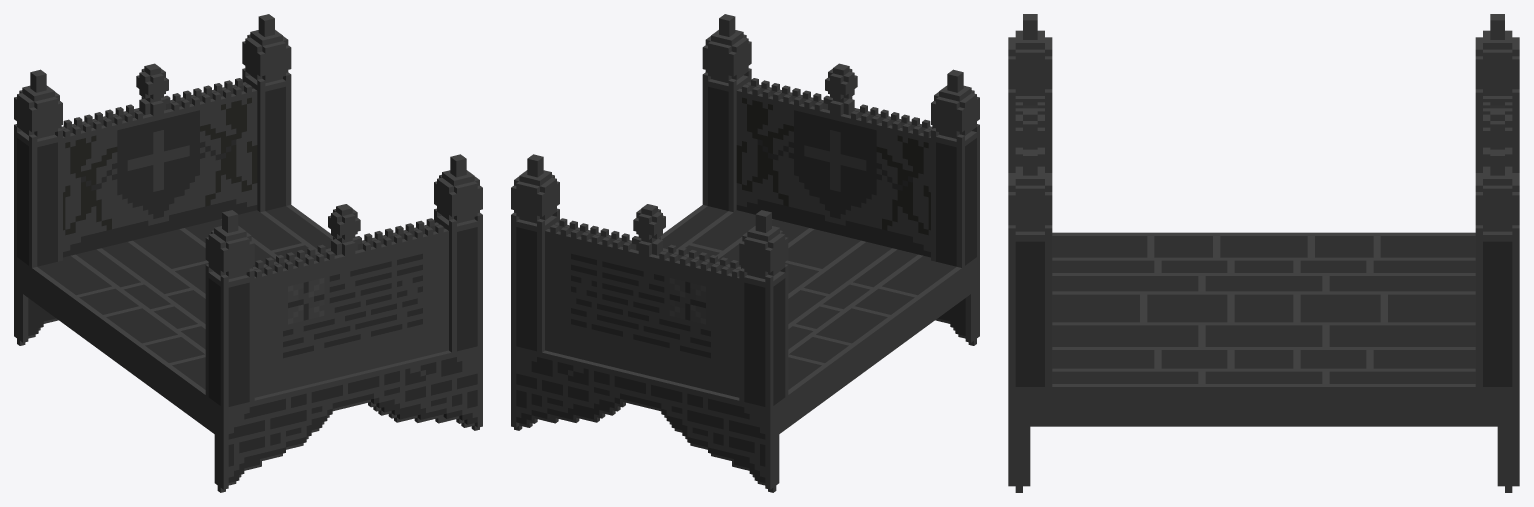
Rendered from stone bridge1.obj.
The picture shows the model from 3 angles, left to right: view 1: azimuth 30°, elevation 25°; view 2: azimuth 150°, elevation 25°; view 3: azimuth 270°, elevation 25°; orthographic projection. The views are drawn at different scales.
Bounding box in the file's own units: 5 × 5 × 7.
1 material, 1 textured.
